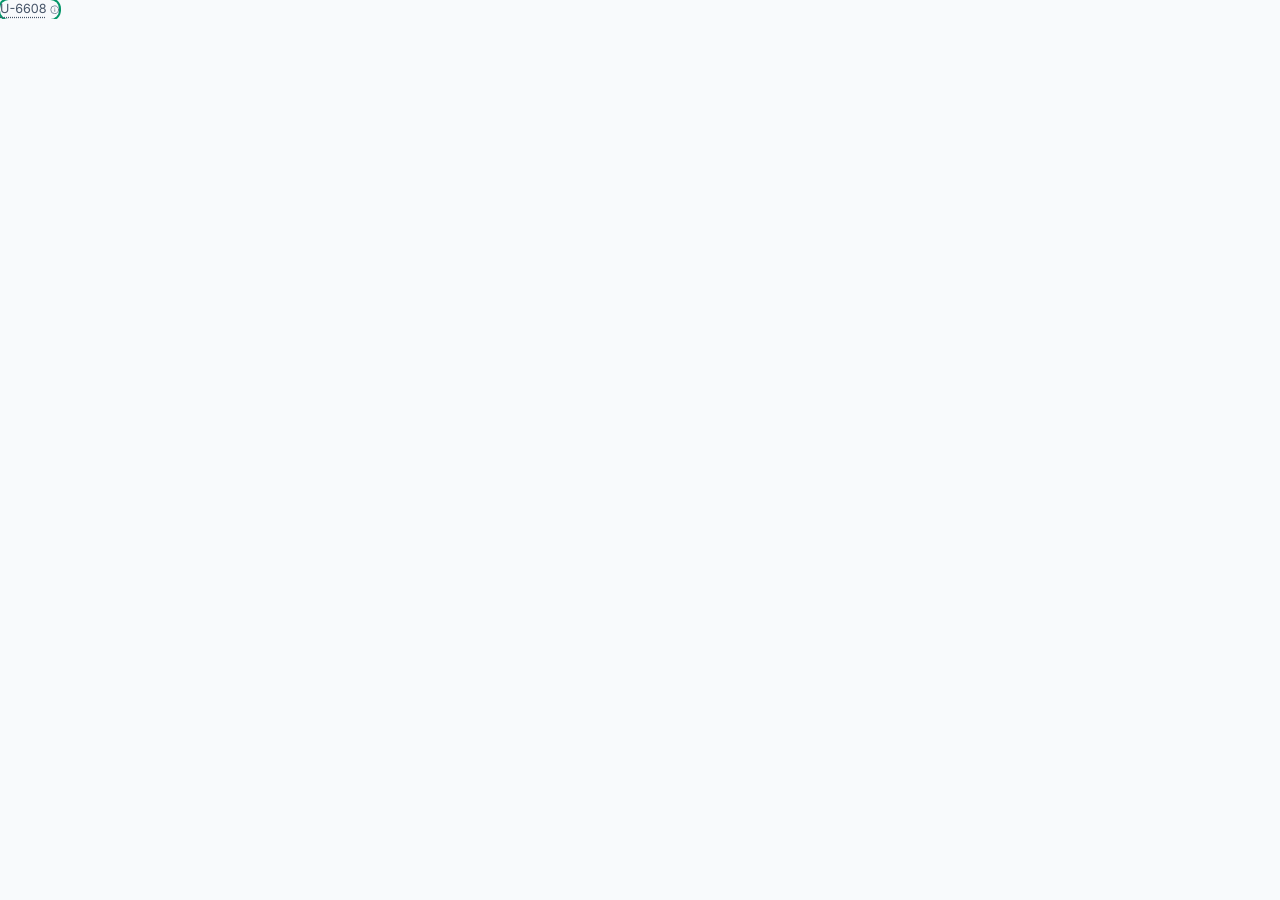
it: read-only loan overview information › does not present a cancelled case asset as still on loan
Click the button.
click(30, 10)  # box [0, 0, 59, 19]
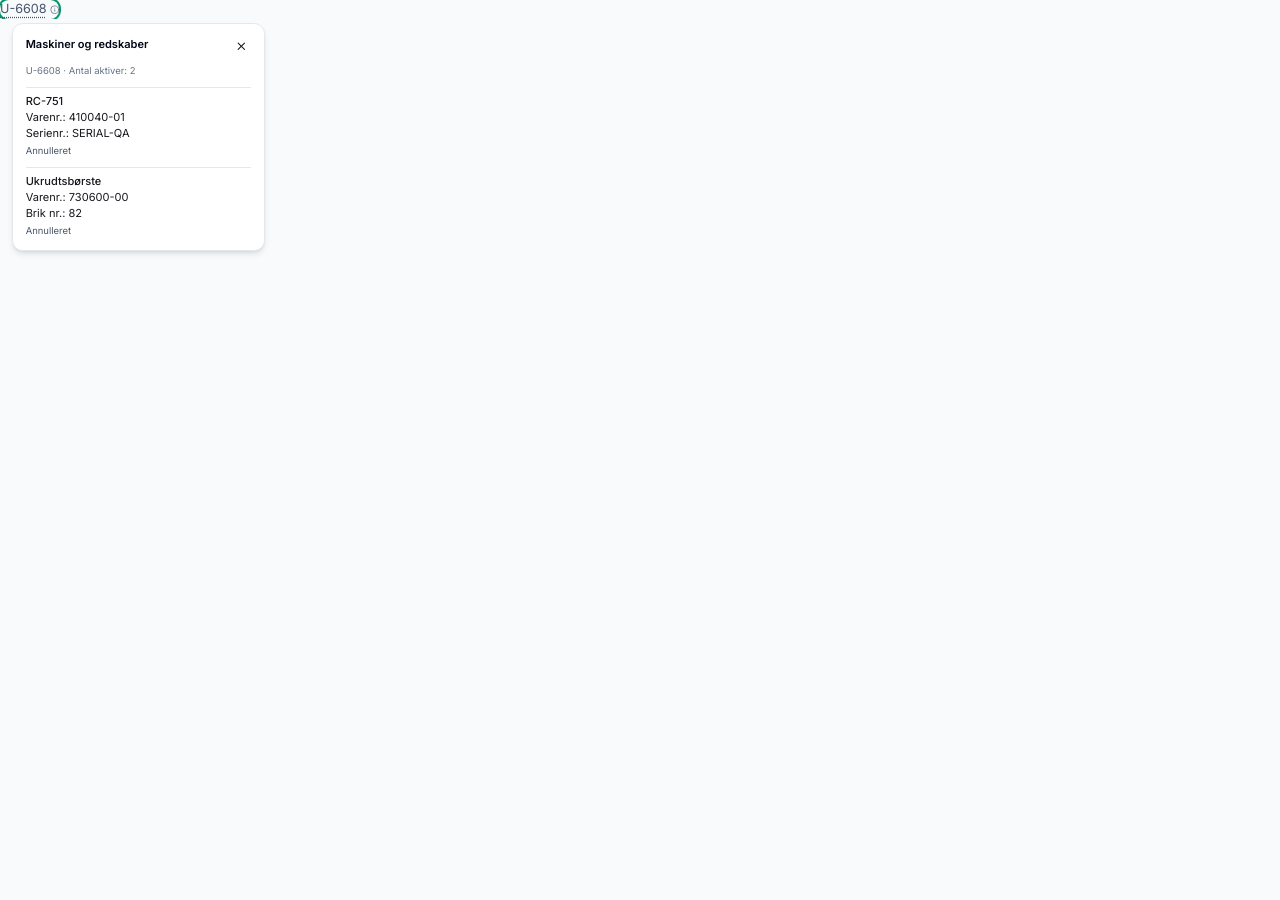
expect the text "RC-751" is shown: met, box [26, 94, 63, 108]
expect the text "Annulleret" is shown 2 times: met, box [26, 145, 71, 156]; [26, 225, 71, 236]
